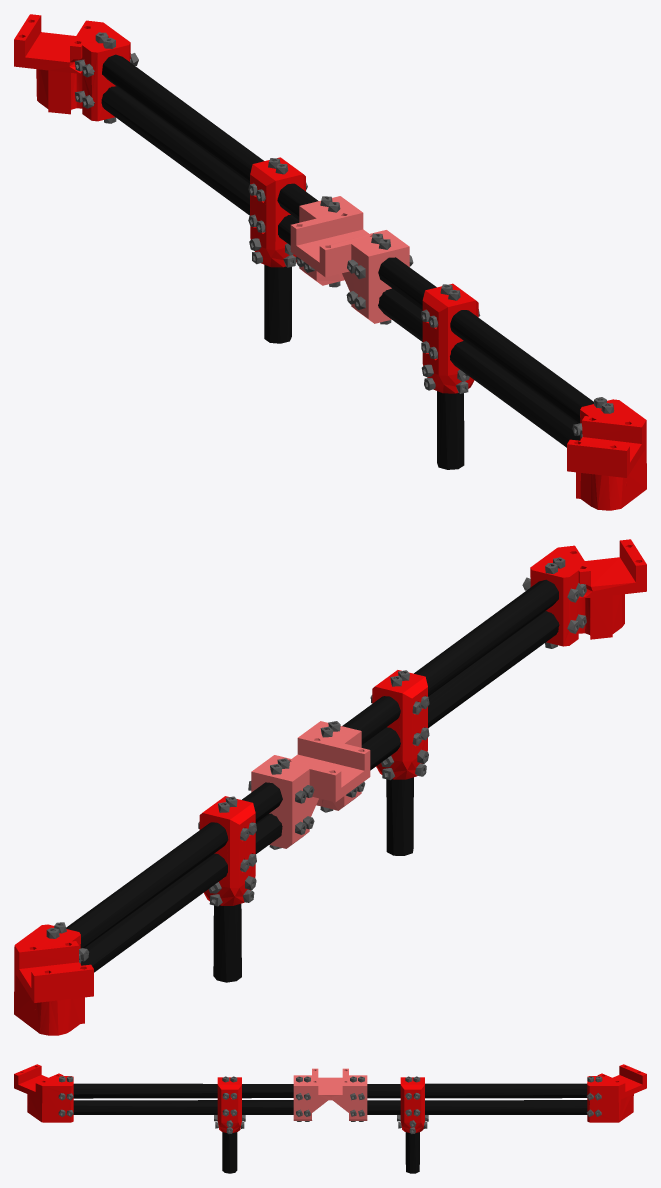
The model's file is end_effector_fang_150 .dae.
3 renders of one model, top to bottom at view 1: azimuth 30°, elevation 25°; view 2: azimuth 150°, elevation 25°; view 3: azimuth 270°, elevation 25°, orthographic. The views are drawn at different scales.
Visible parts, largest first — view 1: Shape_IndexedFaceSet.071; view 2: Shape_IndexedFaceSet.071; view 3: Shape_IndexedFaceSet.071.
Boxes of the visible parts, x1,y1,x2,y2 form: Shape_IndexedFaceSet.071: (14, 14, 646, 510); Shape_IndexedFaceSet.071: (14, 539, 646, 1035); Shape_IndexedFaceSet.071: (14, 1064, 646, 1173).
Size of the model in its own units: 0.0458 by 0.519 by 0.084.
